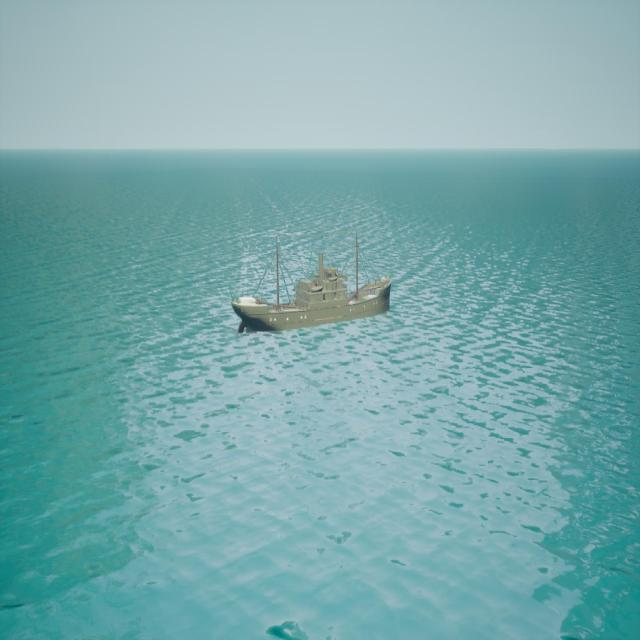fishing ship: (234, 244, 392, 335)
